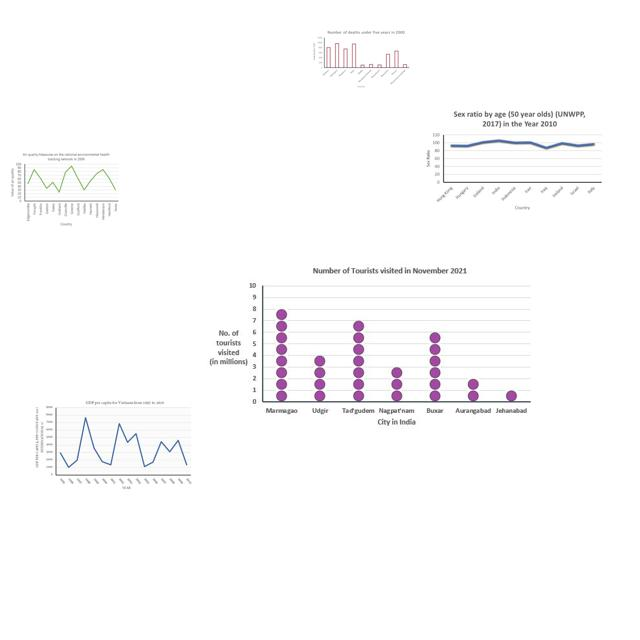Graph: (207, 263, 532, 431), (421, 107, 604, 212), (33, 399, 193, 491), (8, 150, 120, 228), (311, 28, 412, 91)
